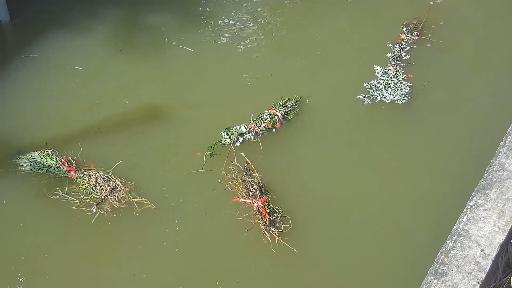twig: (5, 140, 158, 233), (216, 154, 304, 260), (194, 86, 308, 156), (357, 10, 431, 107)
